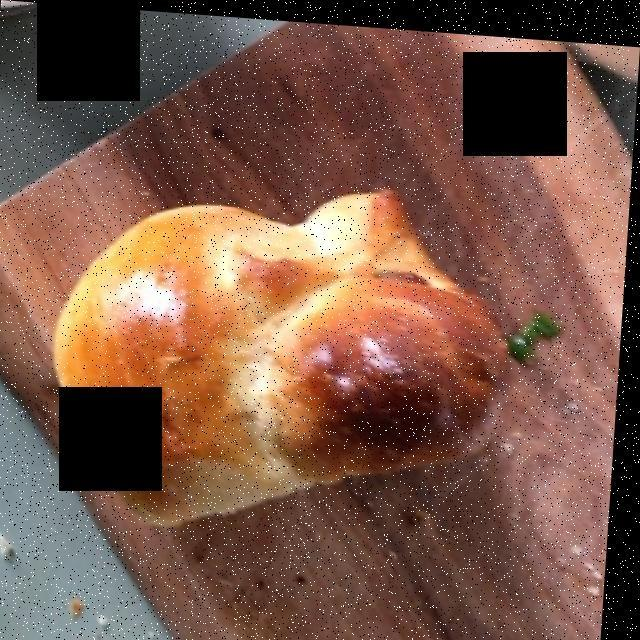bread: (67, 192, 515, 522)
